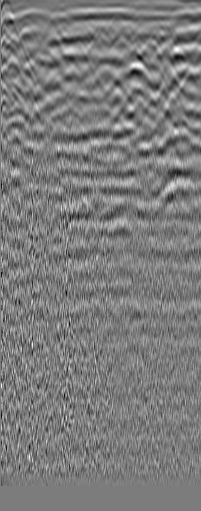오수: (13, 29, 33, 49)
우수: (166, 44, 186, 64)
